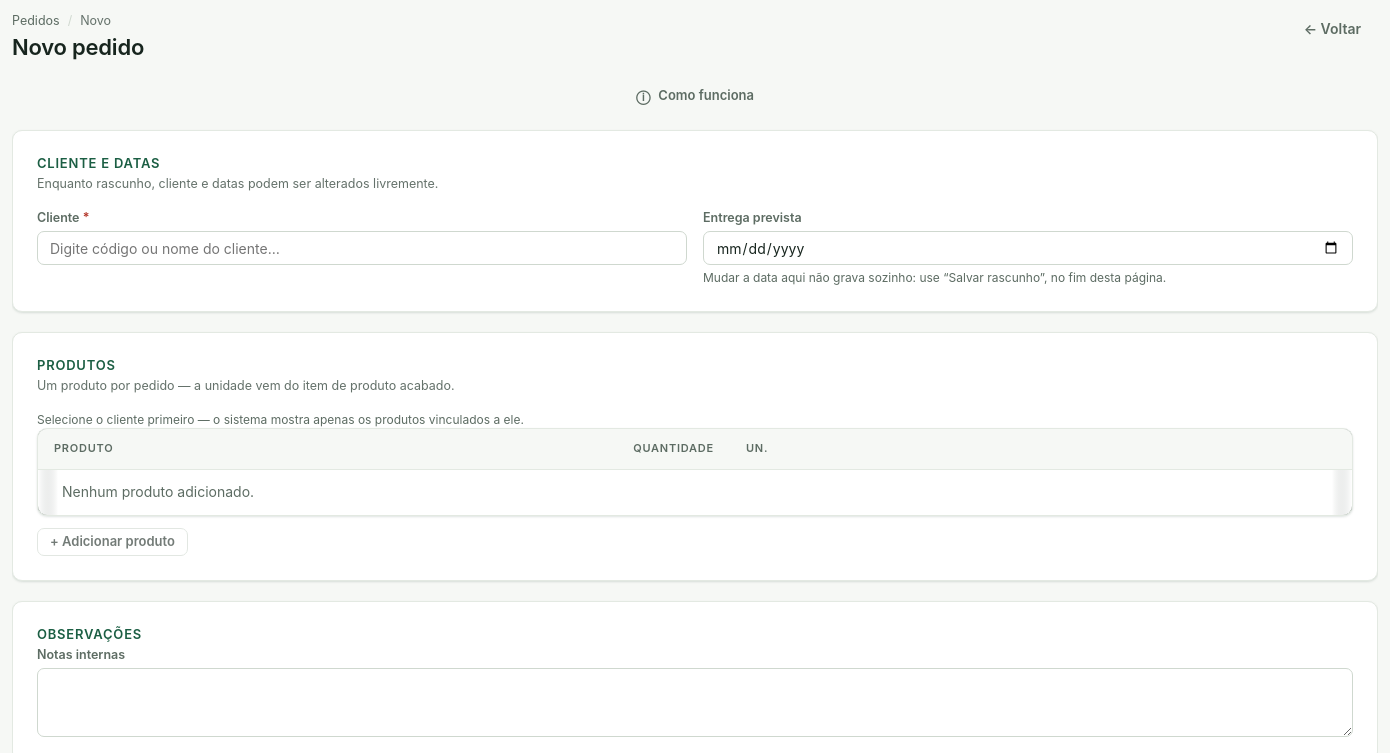
Test: Pedido do Cliente — o produto vem do cliente do pedido › F. cliente sem produtos: estado vazio que explica, sem oferecer o de outro cliente
Click the dropdown with id "co-customer" at (362, 248), box [37, 231, 687, 265]
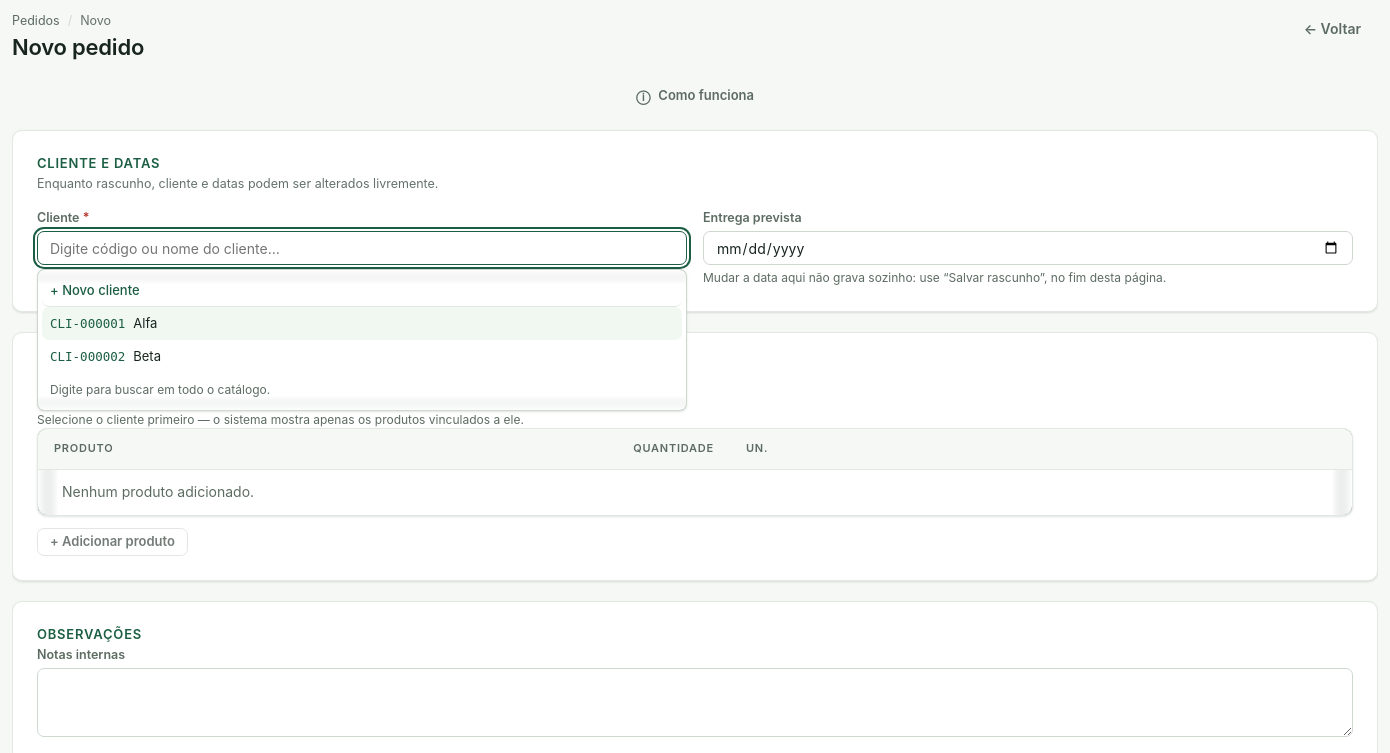
Click the text "Alfa" at (145, 323), box [133, 315, 157, 331]
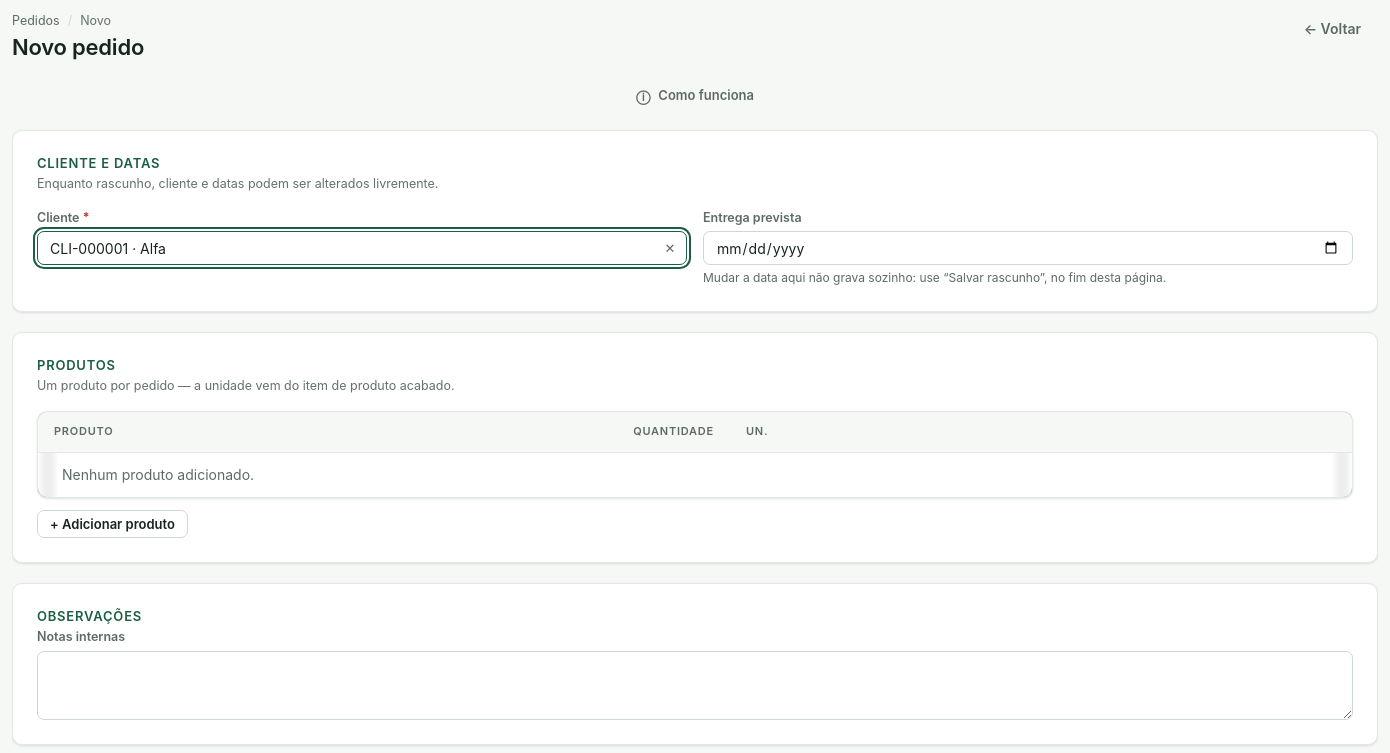
Click the button "+ Adicionar produto" at (112, 524), box [37, 510, 188, 538]
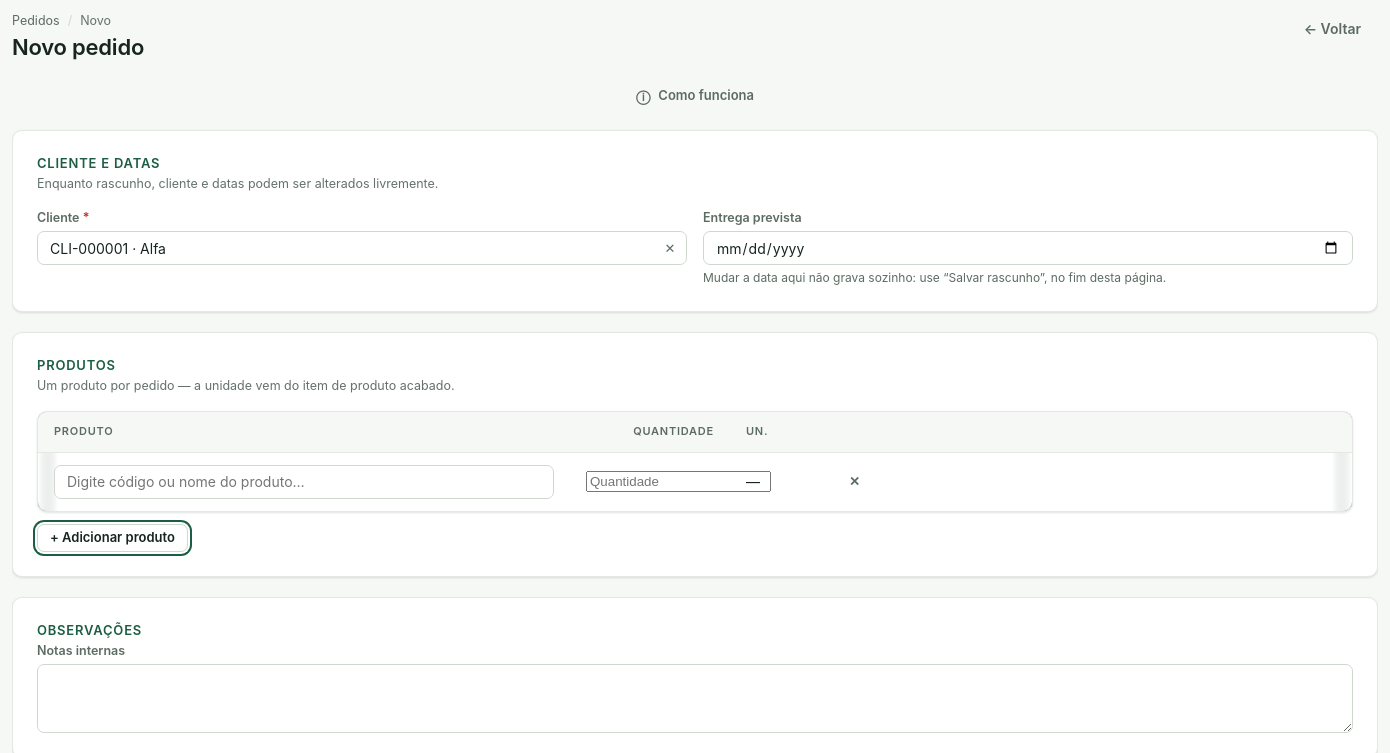
Click the dropdown with placeholder "Digite código ou nome do produto…" at (304, 482), box [54, 465, 554, 499]
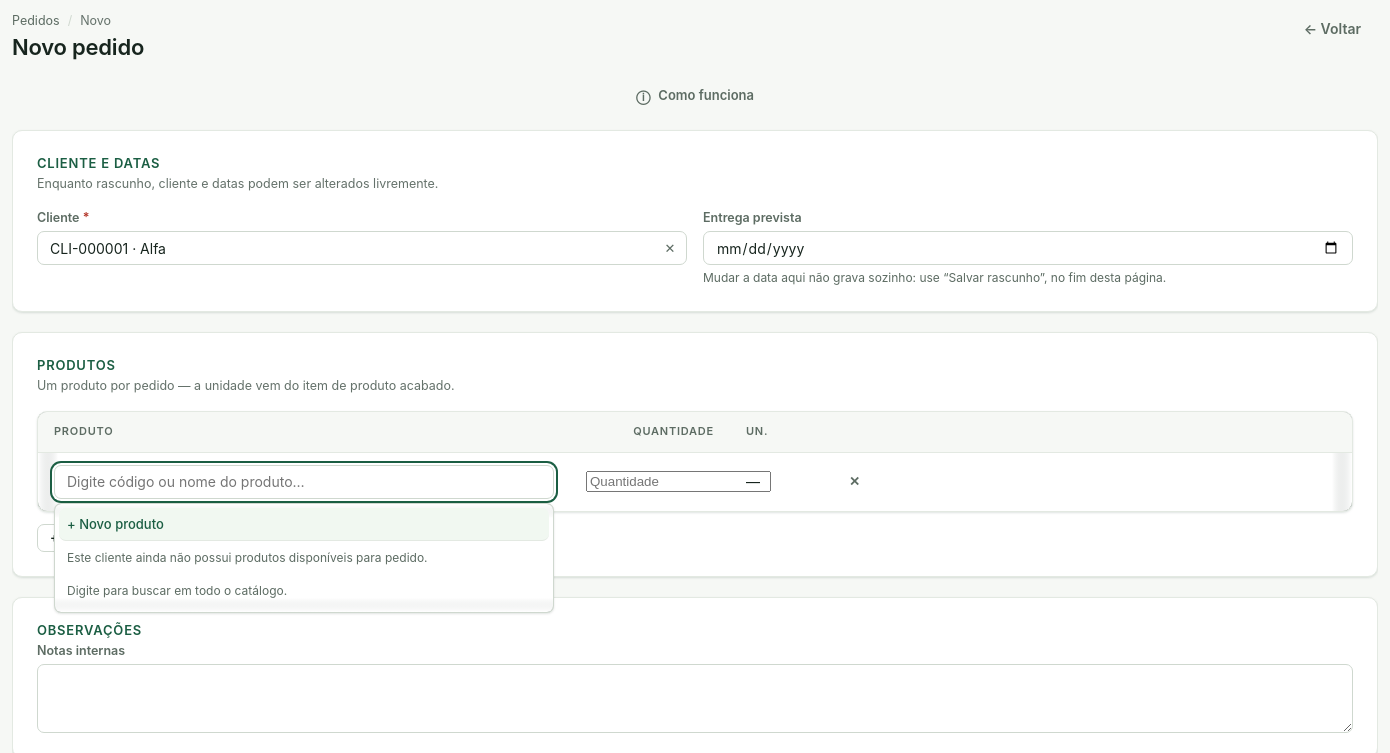
Check: the list item "Este cliente ainda não possui produtos disponíveis para pedido." is shown, box [67, 550, 428, 565]
